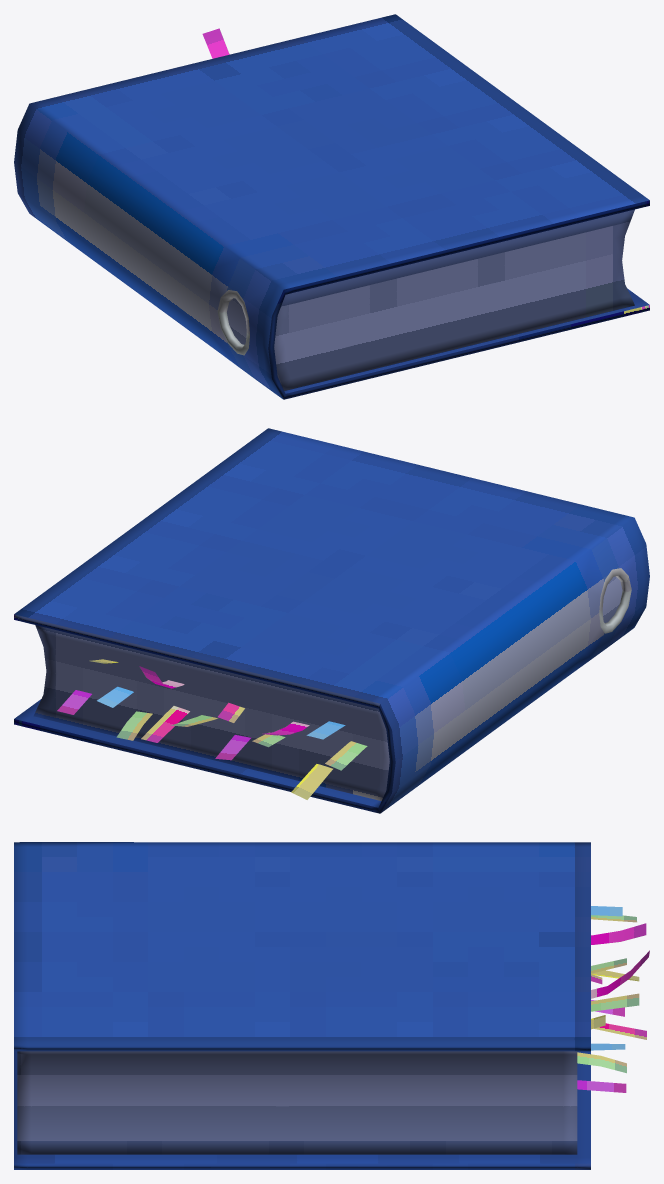
Rendered from a_w23_i_obj_binder02.gltf.
3 views of the same model, one above another, from view 1: azimuth 30°, elevation 25°; view 2: azimuth 150°, elevation 25°; view 3: azimuth 270°, elevation 25° (orthographic). The views are drawn at different scales.
Visible parts, largest first — view 1: a_w23_i_obj_binder02_mesh_shape:a_w23_i_obj_binder02_main; view 2: a_w23_i_obj_binder02_mesh_shape:a_w23_i_obj_binder02_main; view 3: a_w23_i_obj_binder02_mesh_shape:a_w23_i_obj_binder02_main.
Part boxes in pixels (left/top/right/bottom): a_w23_i_obj_binder02_mesh_shape:a_w23_i_obj_binder02_main: left=14, top=14, right=649, bottom=399; a_w23_i_obj_binder02_mesh_shape:a_w23_i_obj_binder02_main: left=14, top=428, right=649, bottom=813; a_w23_i_obj_binder02_mesh_shape:a_w23_i_obj_binder02_main: left=14, top=842, right=649, bottom=1169.
Size of the model in its own units: 0.3635 by 0.1038 by 0.4625.
Materials: 1 (1 with a texture image).
